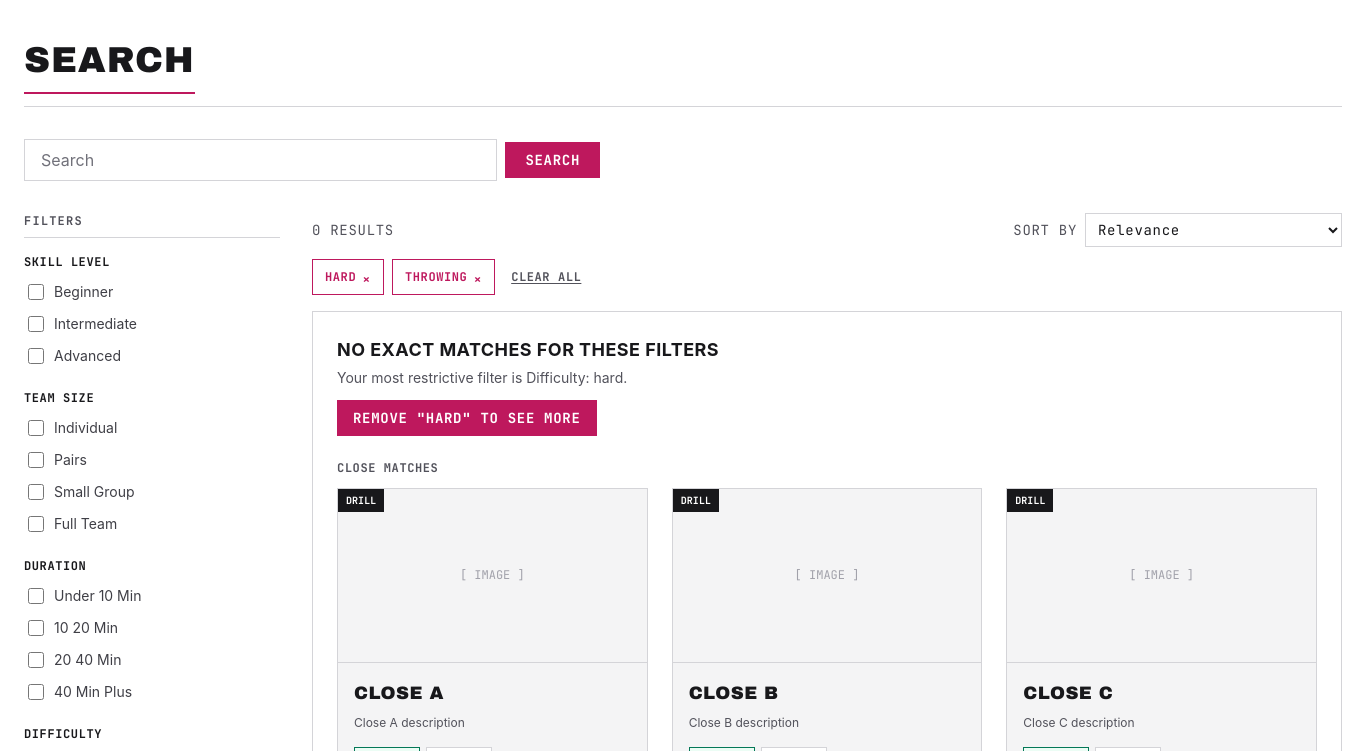
it: Search page — over-filtered empty state › the one-tap action removes the restrictive filter and recovers results
Click the button "Remove \"hard\" to see more" at [467, 418], box [337,400,596,436]
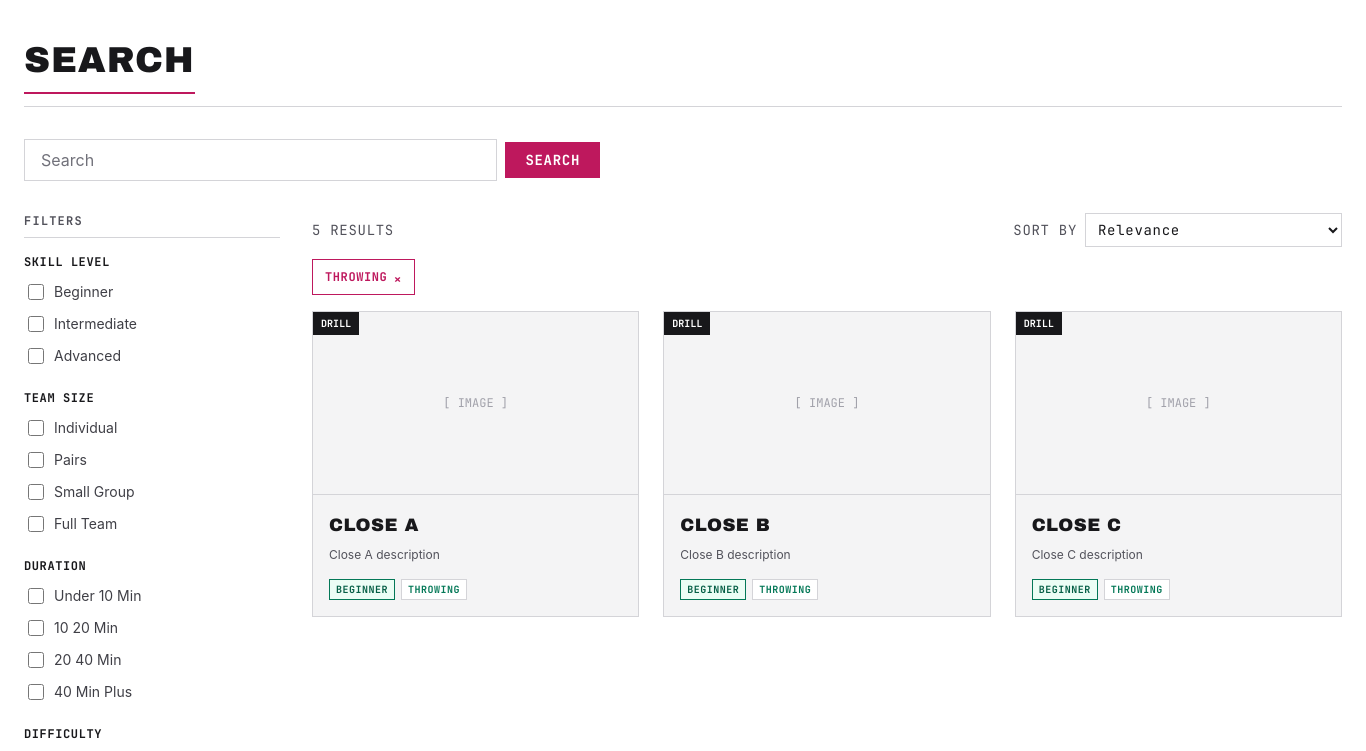
Result: the text "5 results" is shown at [312,220,394,240]
Result: the heading "No exact matches for these filters" is gone
